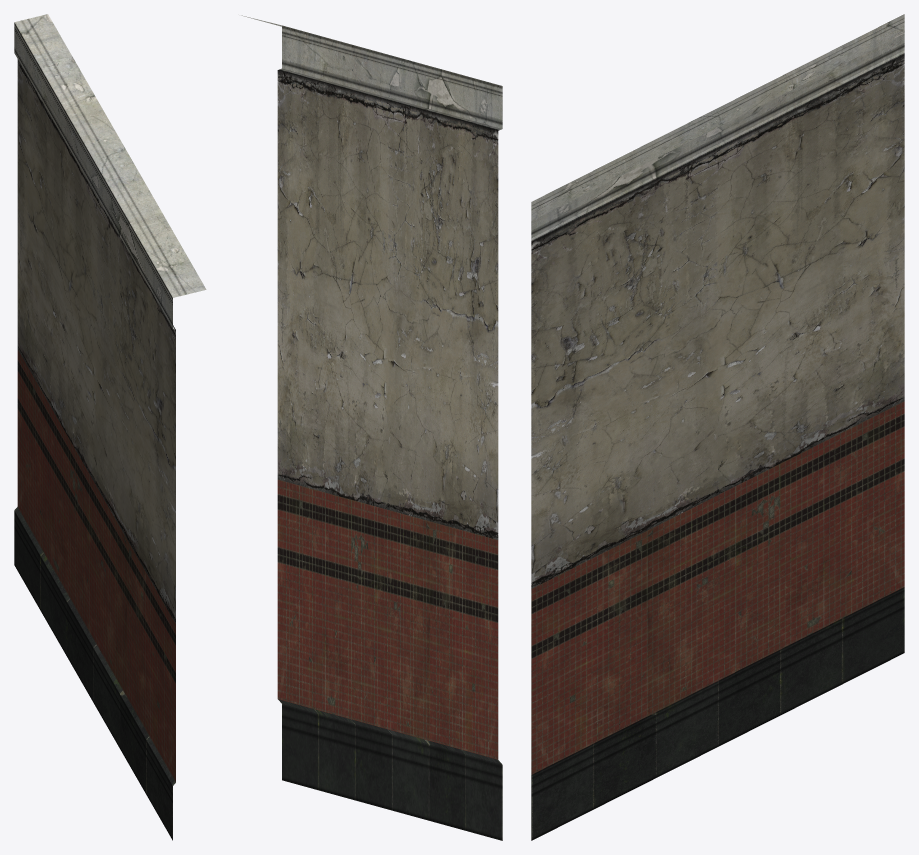
The model's file is urban_damagedl_left_angled_wall.dae.
3 views of the same model, side by side, from view 1: azimuth 30°, elevation 25°; view 2: azimuth 150°, elevation 25°; view 3: azimuth 270°, elevation 25° (orthographic). The views are drawn at different scales.
Parts seen in each view (by area): view 1: polySurface625, polySurface623, polySurface624, polySurface622; view 2: polySurface625, polySurface623, polySurface622, polySurface624; view 3: polySurface625, polySurface623, polySurface622, polySurface624.
Part boxes in pixels (x1,y1,x2,y2): polySurface625: (17, 59, 175, 623); polySurface623: (17, 349, 175, 781); polySurface624: (14, 14, 206, 329); polySurface622: (14, 507, 175, 840); polySurface625: (277, 70, 498, 539); polySurface623: (277, 479, 498, 759); polySurface622: (278, 699, 502, 840); polySurface624: (241, 15, 502, 130); polySurface625: (531, 54, 904, 588); polySurface623: (531, 401, 904, 774); polySurface622: (531, 587, 904, 840); polySurface624: (531, 14, 904, 242).
Bounding box in the file's own units: 0.2756 × 5.5 × 2.25.
